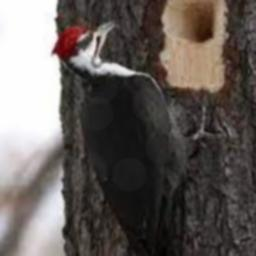Woodpecker: (52, 19, 221, 256)
